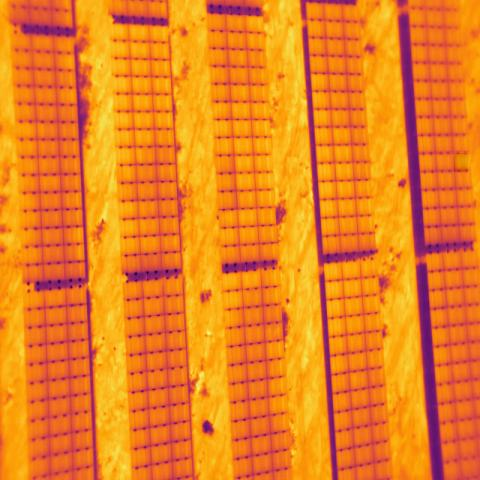fault: (454, 153, 468, 172)
